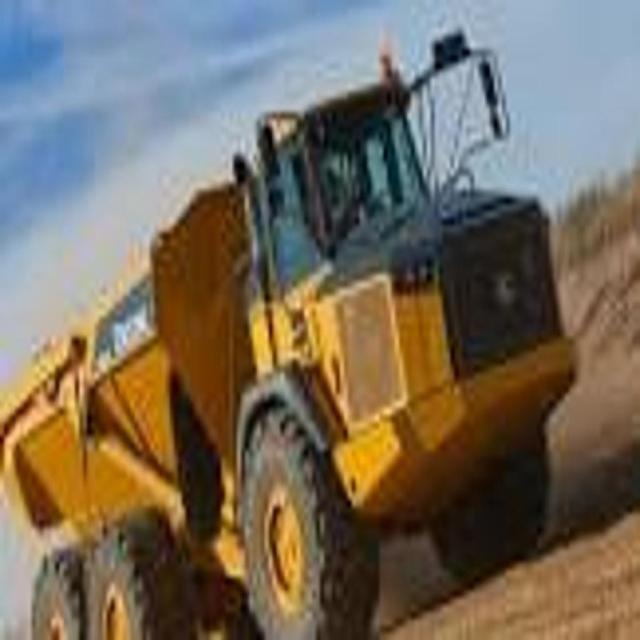dump_truck: (0, 22, 578, 640)
